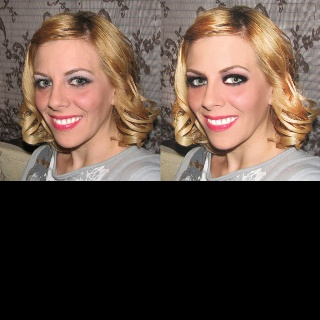without_mask: (187, 34, 269, 150), (33, 38, 113, 149)
